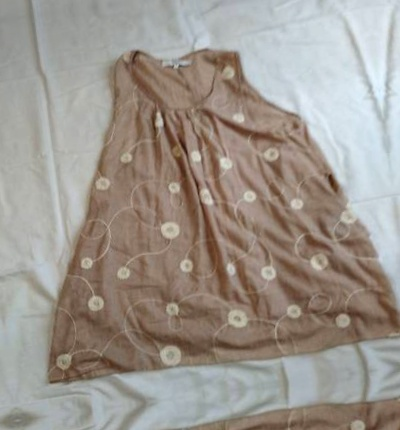Dress: (0, 3, 400, 404), (44, 379, 400, 430), (374, 0, 400, 350)
